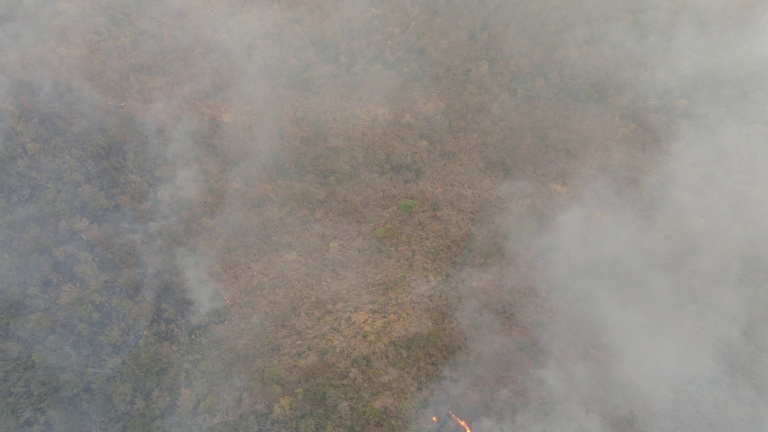fire: (425, 405, 475, 432)
smoke: (390, 51, 768, 432), (1, 1, 317, 428)
